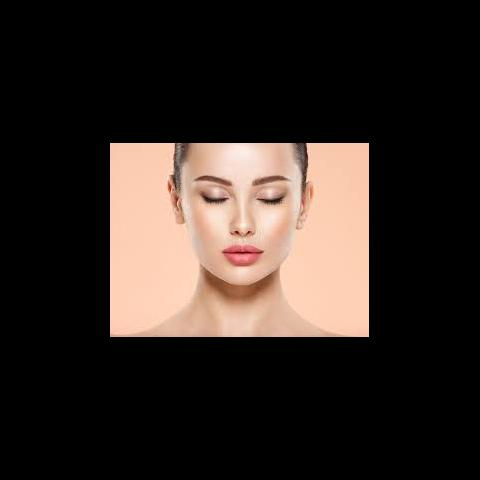closed: (189, 170, 295, 210)
